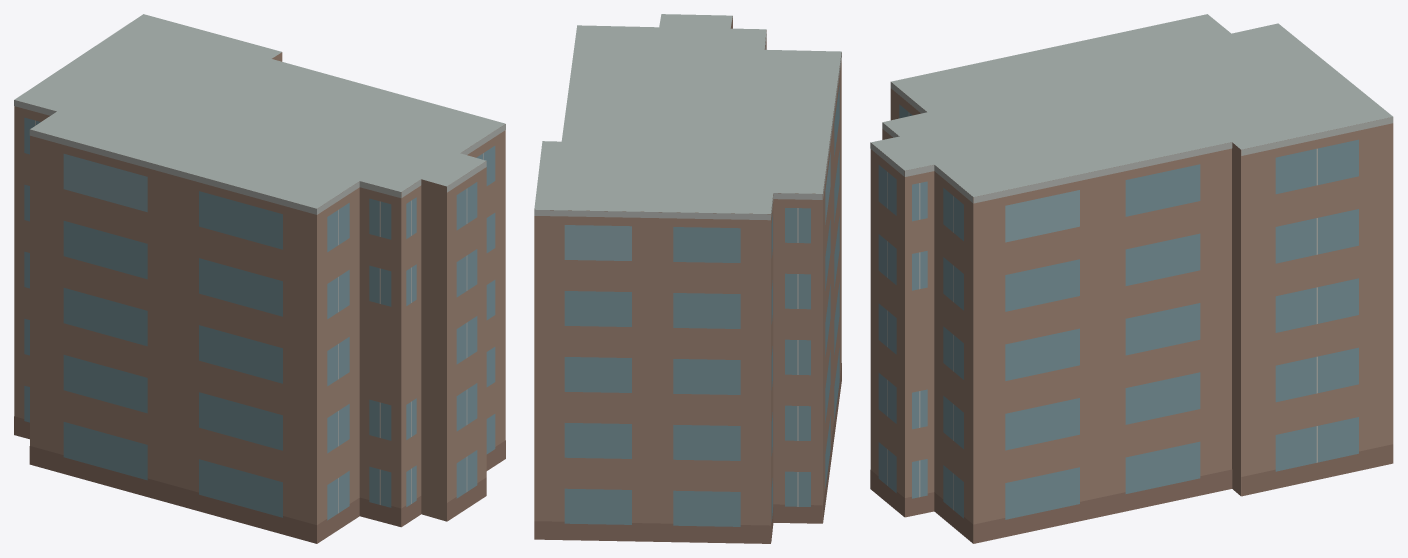
The model's file is survey-upis-32861429.glb.
The picture shows the model from 3 angles, left to right: view 1: azimuth 30°, elevation 25°; view 2: azimuth 150°, elevation 25°; view 3: azimuth 270°, elevation 25°; orthographic projection. The views are drawn at different scales.
Visible parts, largest first — view 1: survey-upis-32861429.tmp; view 2: survey-upis-32861429.tmp; view 3: survey-upis-32861429.tmp.
Boxes of the visible parts, left/top/right/bottom form: survey-upis-32861429.tmp: left=14, top=14, right=505, bottom=543; survey-upis-32861429.tmp: left=534, top=14, right=841, bottom=543; survey-upis-32861429.tmp: left=870, top=14, right=1393, bottom=543.
Bounding box in the file's own units: 14.96 × 13.2 × 18.05.
